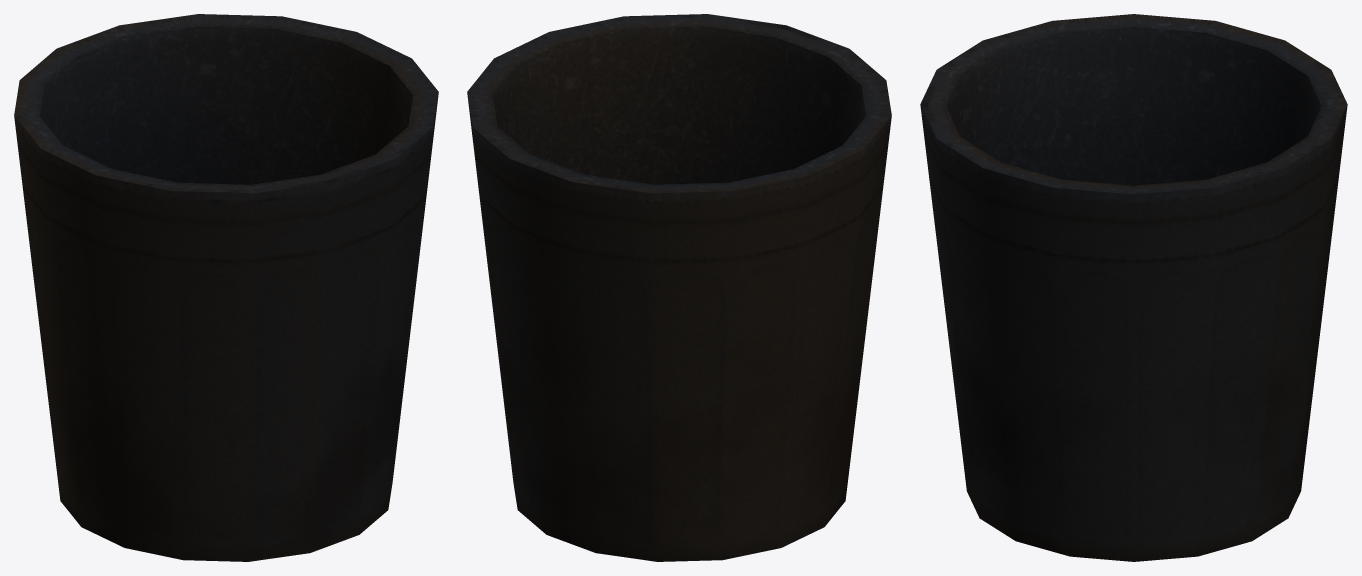
The model's file is Planter.fbx.
The picture shows the model from 3 angles, left to right: view 1: azimuth 30°, elevation 25°; view 2: azimuth 150°, elevation 25°; view 3: azimuth 270°, elevation 25°; orthographic projection.
Visible parts, largest first — view 1: planter; view 2: planter; view 3: planter.
Boxes of the visible parts, left/top/right/bottom form: planter: left=14, top=14, right=438, bottom=561; planter: left=467, top=14, right=891, bottom=561; planter: left=920, top=14, right=1347, bottom=561.
Size of the model in its own units: 14.82 by 14.82 by 14.82.
Materials: 1 (1 with a texture image).
